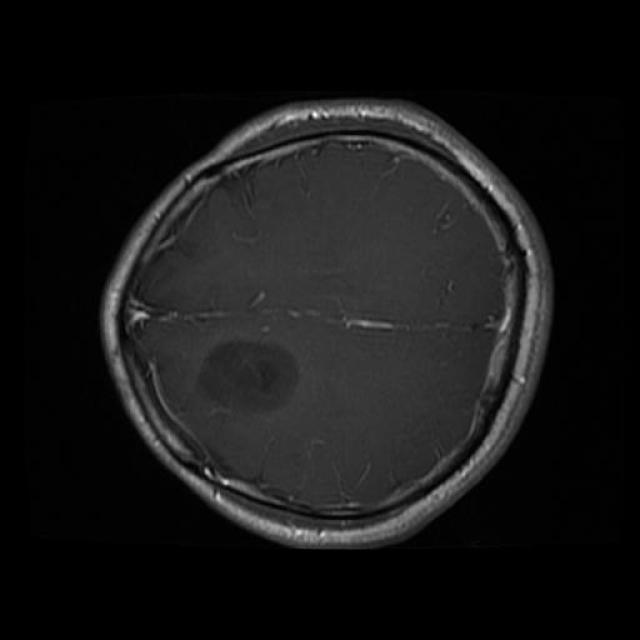Glioma: (197, 340, 298, 411)
